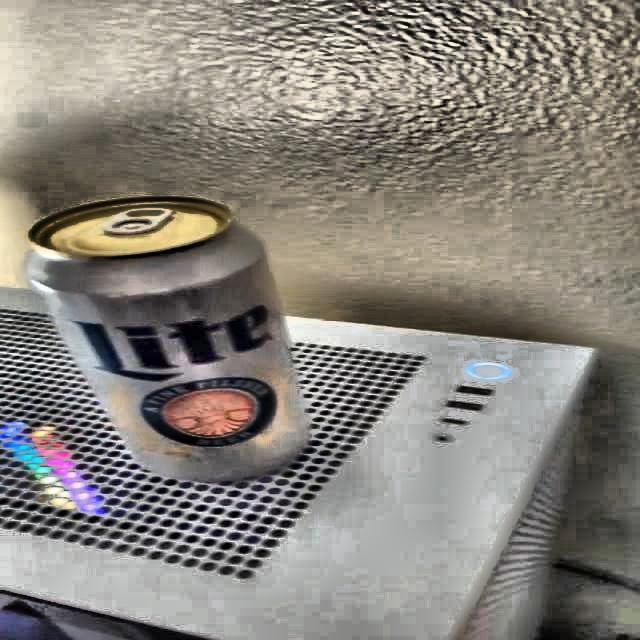can: (20, 191, 317, 493)
